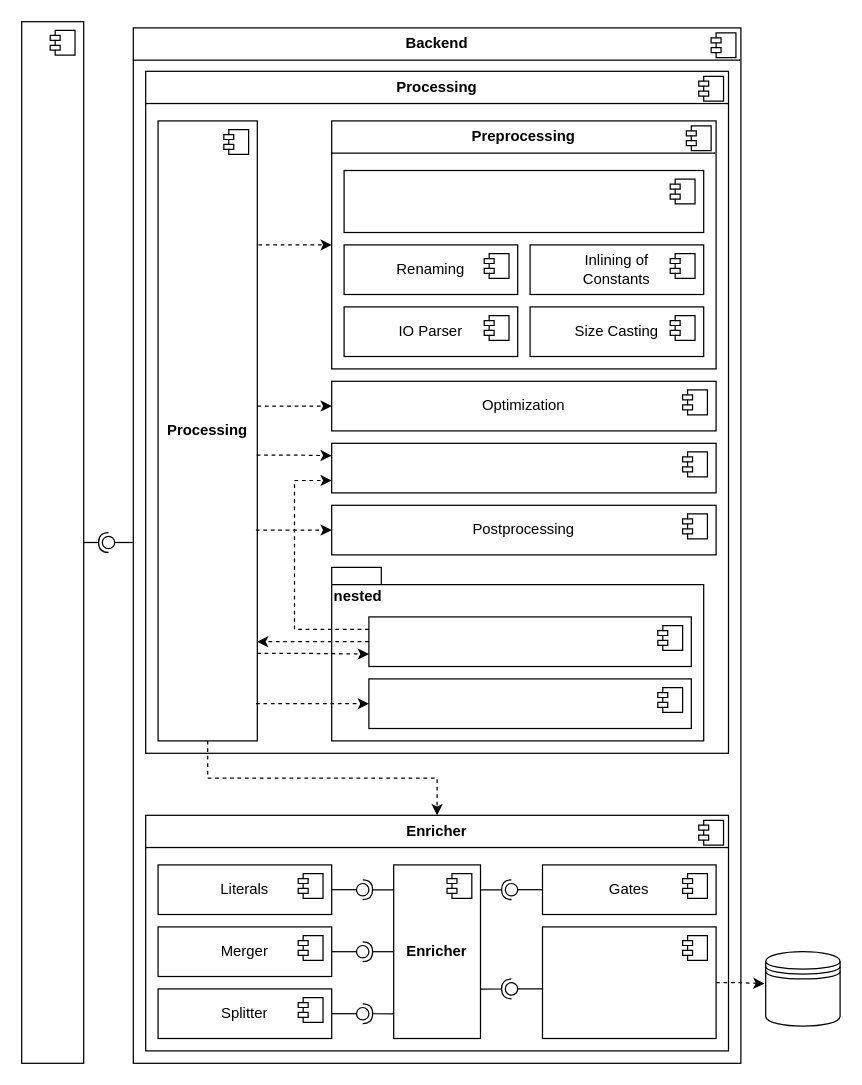
The diagram is 862 pixels wide and 1085 high, and some of its shapes have lost their labels. Each missing label, with the centre of its shape:
"Converter" belongs at point (523, 200).
"Database" belongs at point (628, 982).
"Front- end" belongs at point (52, 541).
"If-Then-Else" belongs at point (529, 641).
"Merging" belongs at point (523, 467).
"Repeat" belongs at point (529, 703).
